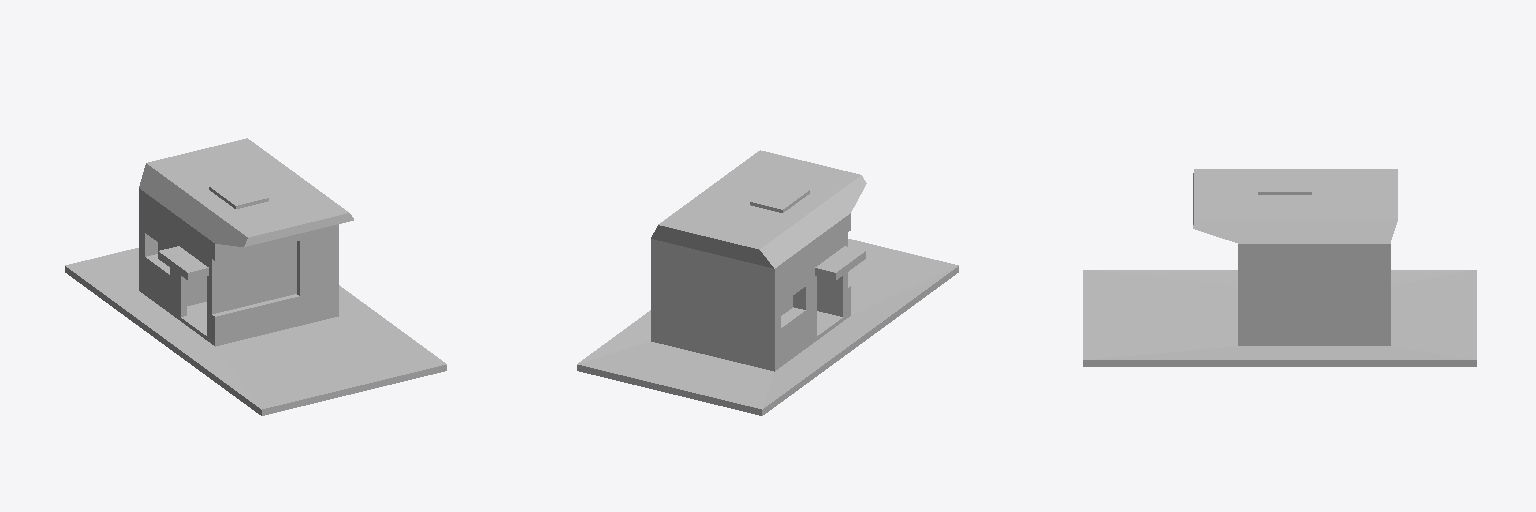
File: ticketer.obj
3 views of the same model, side by side, from view 1: azimuth 30°, elevation 25°; view 2: azimuth 150°, elevation 25°; view 3: azimuth 270°, elevation 25° (orthographic).
Parts seen in each view (by area): view 1: ticket_Cube.015; view 2: ticket_Cube.015; view 3: ticket_Cube.015.
Boxes of the visible parts, x1,y1,x2,y2 form: ticket_Cube.015: [65, 138, 446, 415]; ticket_Cube.015: [577, 150, 958, 415]; ticket_Cube.015: [1083, 169, 1476, 366].
Size of the model in its own units: 3.27 by 2.2 by 6.